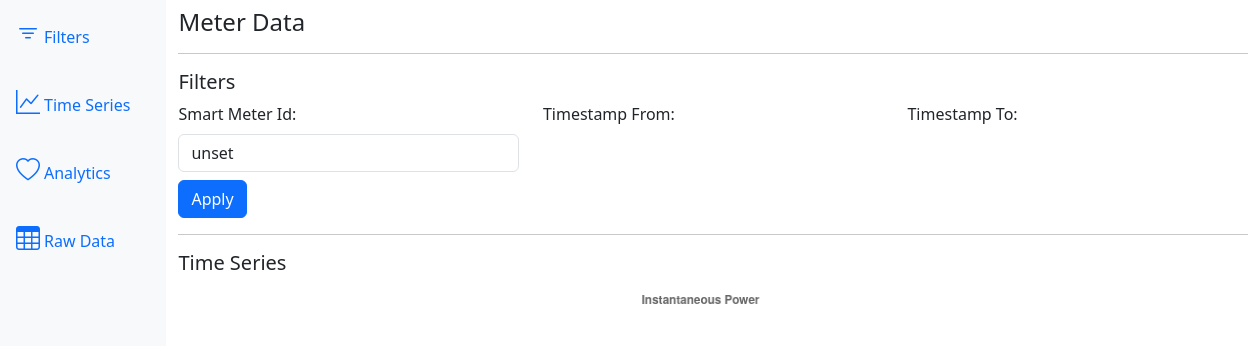
Test: MeterData › if Smart Meter Id filter is cleared › renders validation error
Clear the field with id "smartMeterIdFilter". click: (349, 153)
box: [178, 134, 519, 172]
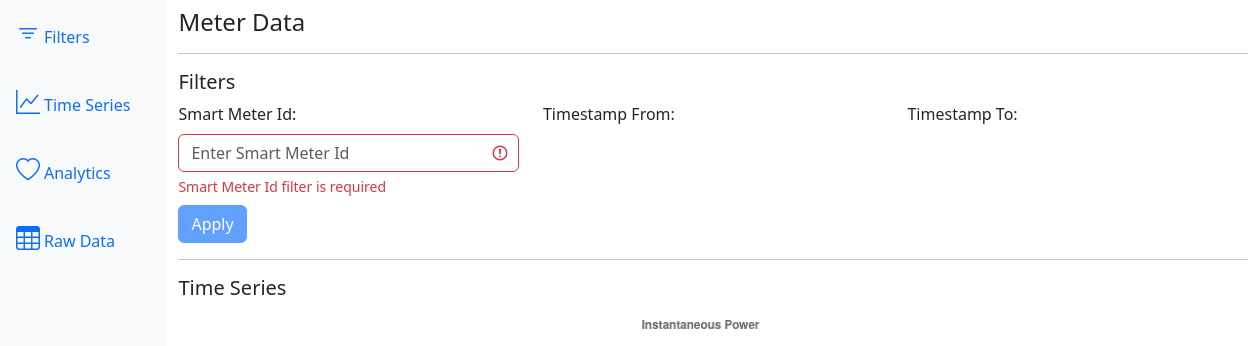
expect the message with class "invalid-feedback" reads "Smart Meter Id filter is required": met, box [178, 177, 386, 196]
